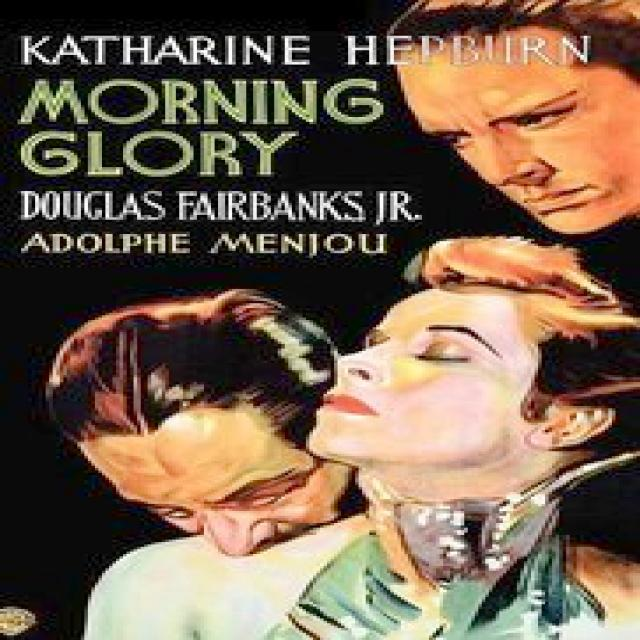movie-judul: (19, 66, 395, 182)
picture: (29, 240, 640, 640), (390, 2, 640, 242)
